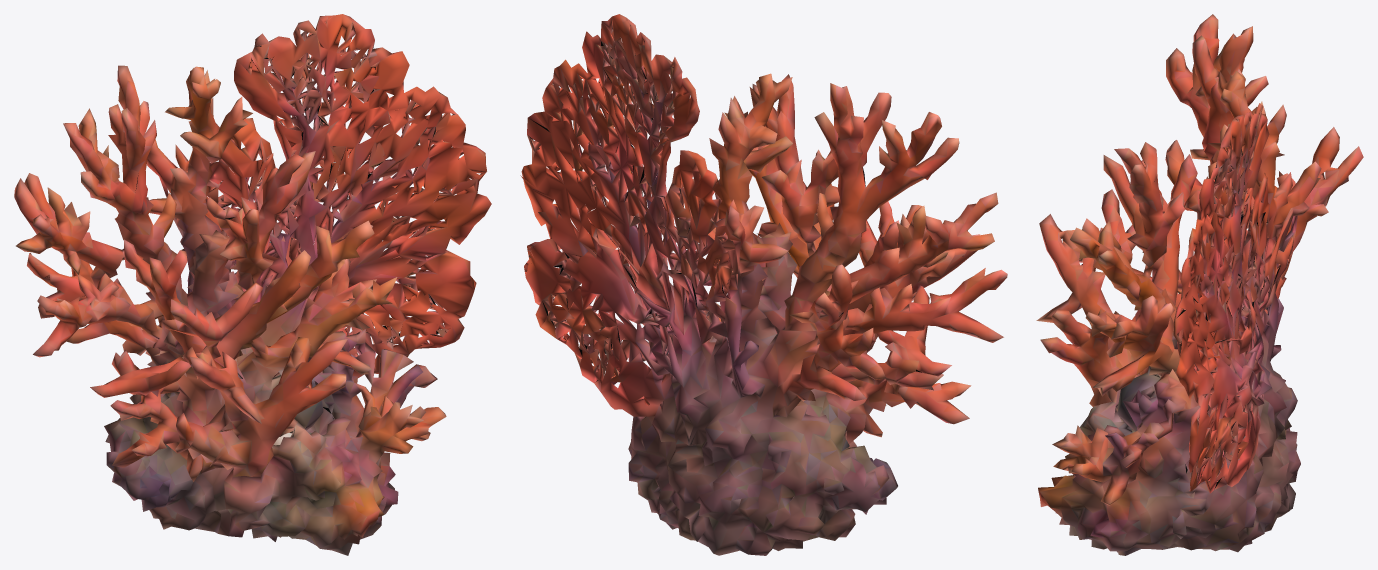
Rendered from coral-phone.glb.
3 renders of one model, left to right at view 1: azimuth 30°, elevation 25°; view 2: azimuth 150°, elevation 25°; view 3: azimuth 270°, elevation 25°, orthographic. The views are drawn at different scales.
Visible parts, largest first — view 1: Model; view 2: Model; view 3: Model.
Boxes of the visible parts, x1,y1,x2,y2 form: Model: [14, 14, 491, 555]; Model: [520, 14, 1007, 555]; Model: [1036, 14, 1363, 555].
Size of the model in its own units: 1.89 by 1.81 by 1.19.
1 material, 1 textured.
